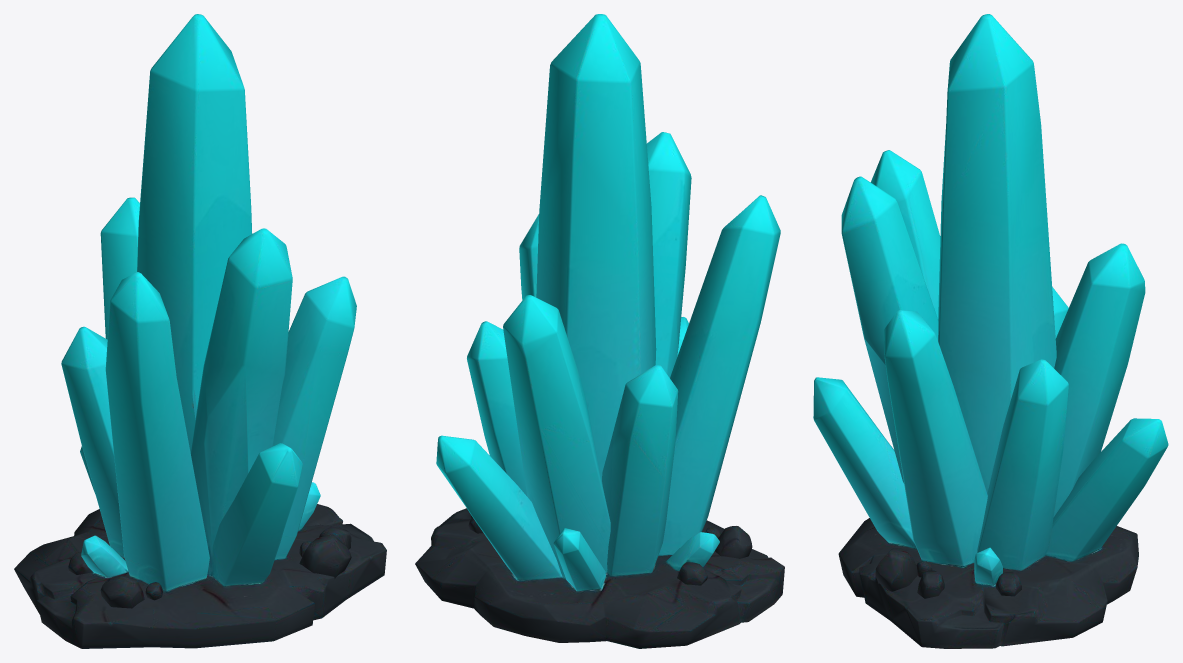
The model's file is mineral.glb.
3 views of the same model, side by side, from view 1: azimuth 30°, elevation 25°; view 2: azimuth 150°, elevation 25°; view 3: azimuth 270°, elevation 25° (orthographic). The views are drawn at different scales.
Parts seen in each view (by area): view 1: tripo_node_ca1951d2-4cbb-4f35-993a-117ffee00862; view 2: tripo_node_ca1951d2-4cbb-4f35-993a-117ffee00862; view 3: tripo_node_ca1951d2-4cbb-4f35-993a-117ffee00862.
Part boxes in pixels (<box>): tripo_node_ca1951d2-4cbb-4f35-993a-117ffee00862: <box>14,14,386,648</box>; tripo_node_ca1951d2-4cbb-4f35-993a-117ffee00862: <box>415,14,784,648</box>; tripo_node_ca1951d2-4cbb-4f35-993a-117ffee00862: <box>813,14,1168,648</box>.
Size of the model in its own units: 1.4 by 2.4 by 1.38.
1 material, 1 textured.
